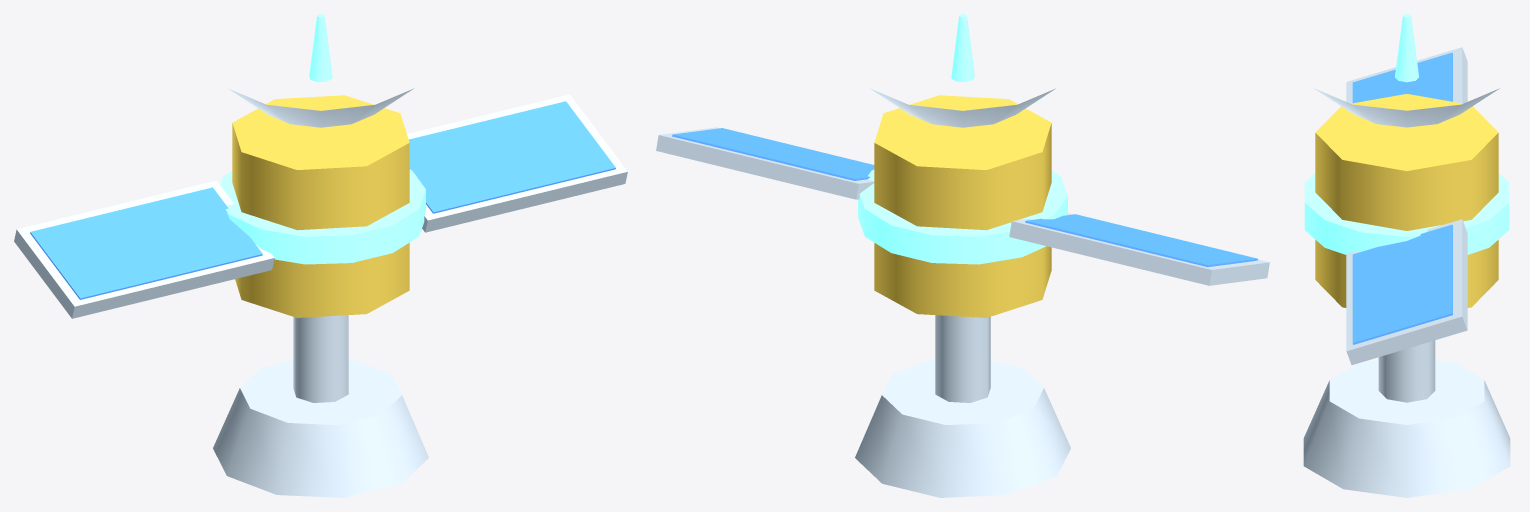
File: prop_space_satellite.glb
The picture shows the model from 3 angles, left to right: view 1: azimuth 30°, elevation 25°; view 2: azimuth 150°, elevation 25°; view 3: azimuth 270°, elevation 25°; orthographic projection.
Visible parts, largest first — view 1: PropSpaceSatellite; view 2: PropSpaceSatellite; view 3: PropSpaceSatellite.
Part boxes in pixels (box(x1,y1,x2,y2)): PropSpaceSatellite: box(14, 14, 627, 497); PropSpaceSatellite: box(656, 14, 1269, 497); PropSpaceSatellite: box(1303, 14, 1510, 497).
Bounding box in the file's own units: 0.94 × 0.71 × 0.32.
